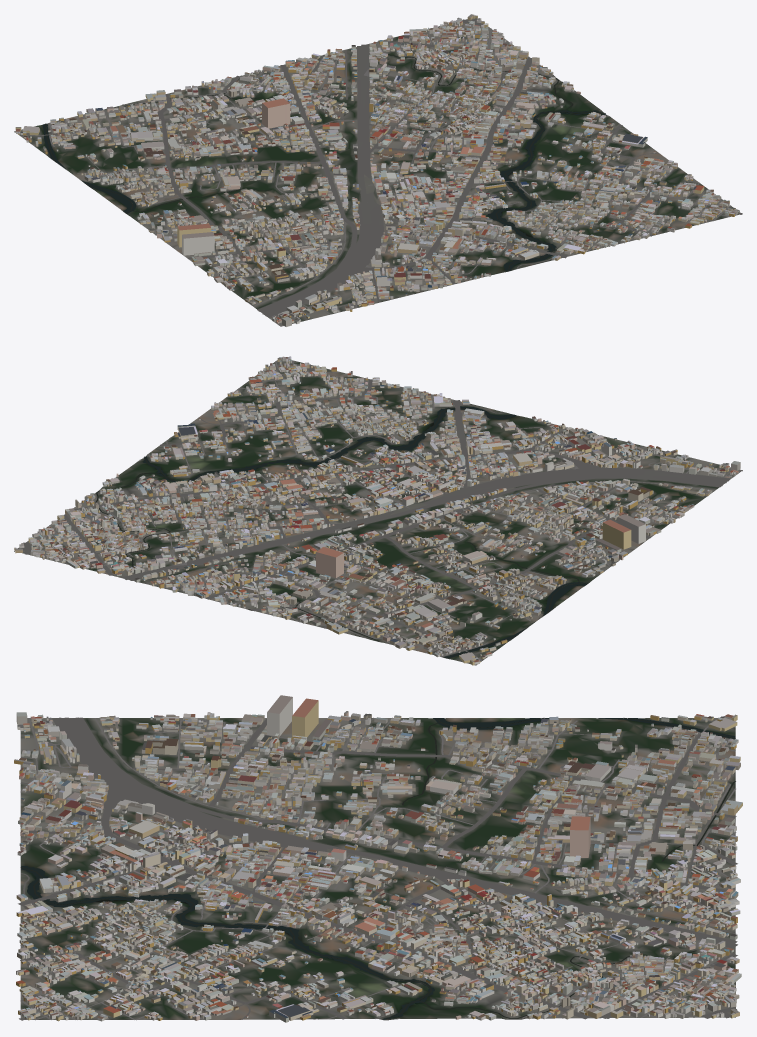
The picture shows the model from 3 angles, top to bottom: view 1: azimuth 30°, elevation 25°; view 2: azimuth 150°, elevation 25°; view 3: azimuth 270°, elevation 25°; orthographic projection. The views are drawn at different scales.
Visible parts, largest first — view 1: buildings, ground, roads, water; view 2: buildings, ground, roads, water; view 3: buildings, ground, roads, water.
Boxes of the visible parts, left/top/right/bottom form: buildings: left=15, top=14, right=739, bottom=326; ground: left=14, top=18, right=742, bottom=326; roads: left=20, top=18, right=742, bottom=326; water: left=42, top=54, right=606, bottom=271; buildings: left=14, top=356, right=740, bottom=665; ground: left=14, top=359, right=742, bottom=665; roads: left=18, top=357, right=741, bottom=660; water: left=95, top=406, right=588, bottom=658; buildings: left=14, top=695, right=742, bottom=1022; ground: left=20, top=718, right=735, bottom=1020; roads: left=18, top=717, right=737, bottom=1020; water: left=20, top=718, right=735, bottom=1019.
Bounding box in the file's own units: 1421 × 65.23 × 1428.
